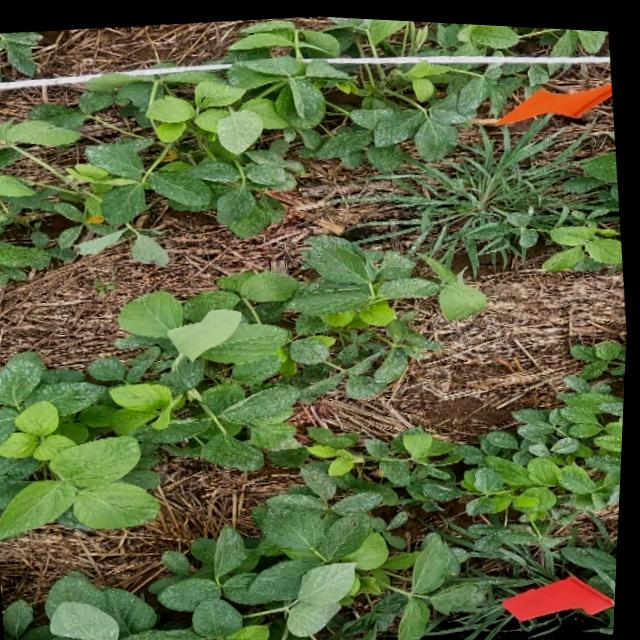grassy_weed: (358, 111, 608, 265), (431, 506, 572, 640)
soy_plant: (0, 14, 608, 284), (0, 232, 480, 535), (10, 463, 490, 640), (314, 369, 627, 516), (545, 144, 624, 263), (567, 538, 622, 589), (573, 332, 629, 373), (337, 467, 402, 500), (0, 30, 42, 74), (310, 422, 361, 444)
